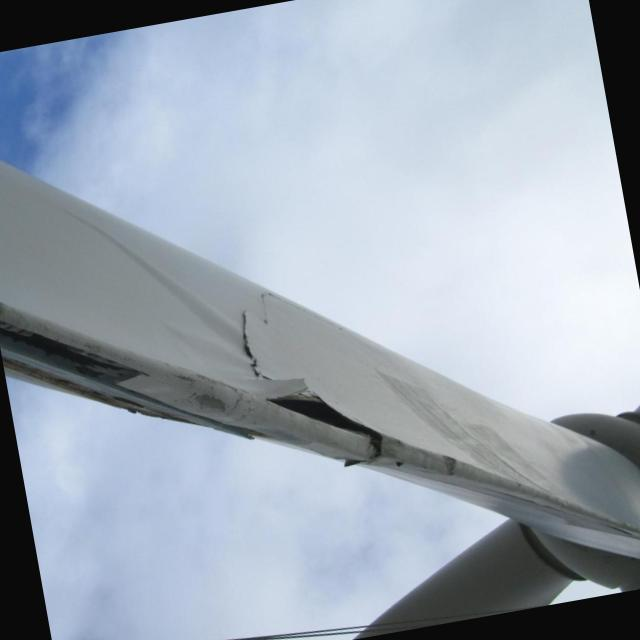crack: (154, 272, 409, 504)
